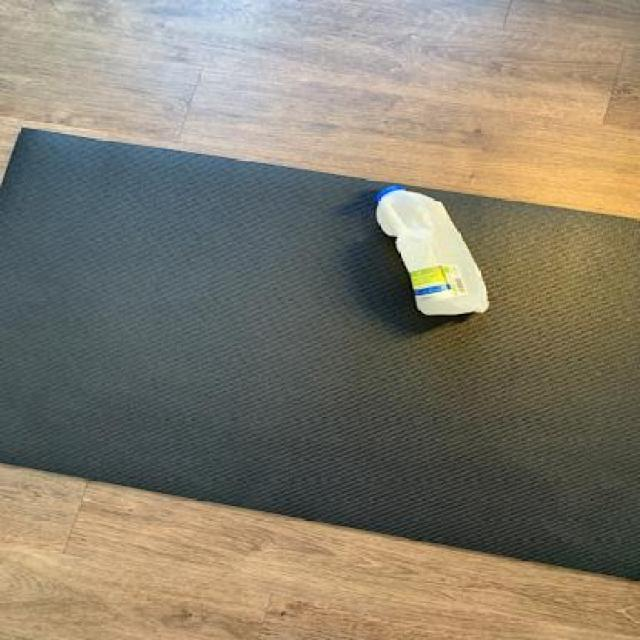trash: (374, 183, 492, 319)
